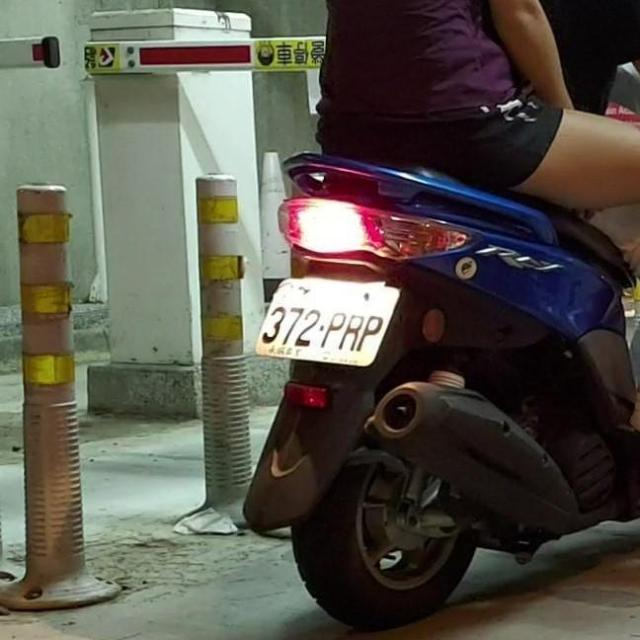W: (247, 263, 404, 374)
